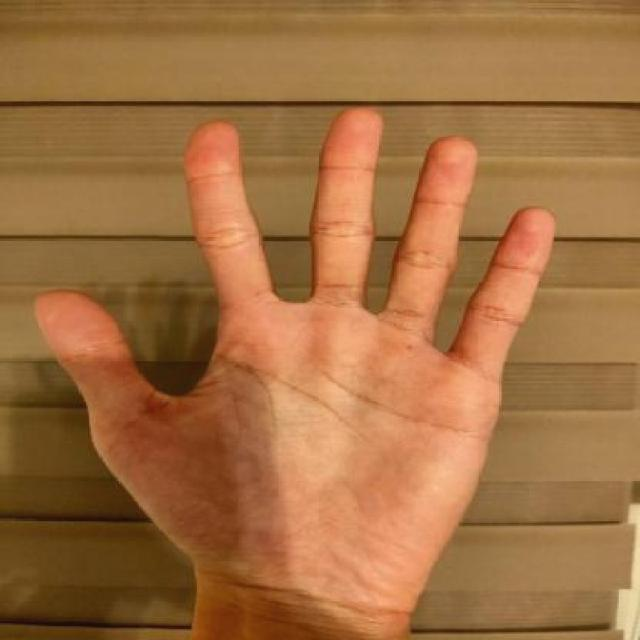no_glove: (19, 87, 590, 640)
